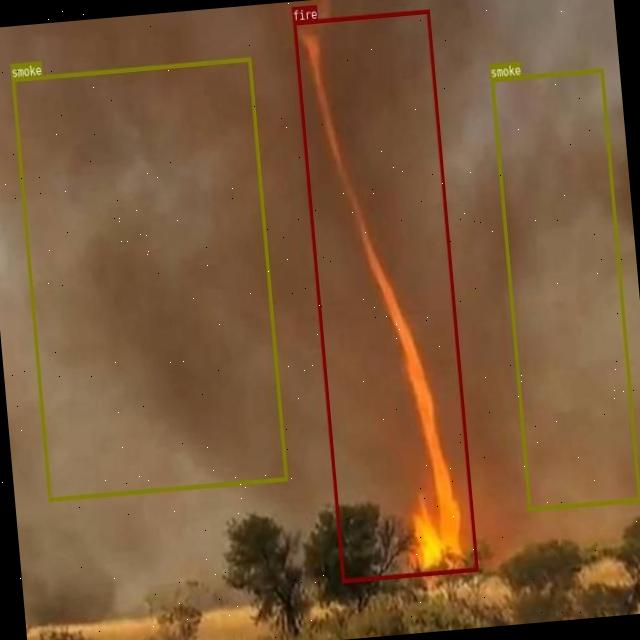fire: (292, 9, 478, 582)
smoke: (10, 57, 286, 500), (490, 67, 640, 509)
